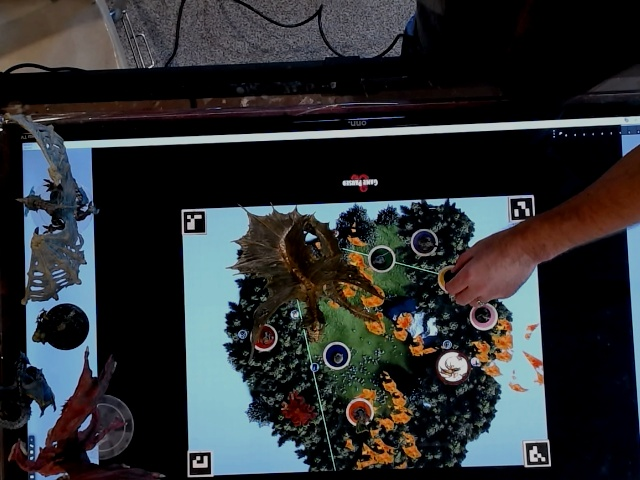blue: (320, 336, 352, 371)
green: (364, 243, 397, 275)
orange: (338, 395, 381, 430)
pink: (467, 299, 501, 331)
red: (245, 320, 280, 354)
violet: (408, 227, 440, 257)
yellow: (433, 263, 472, 297)
